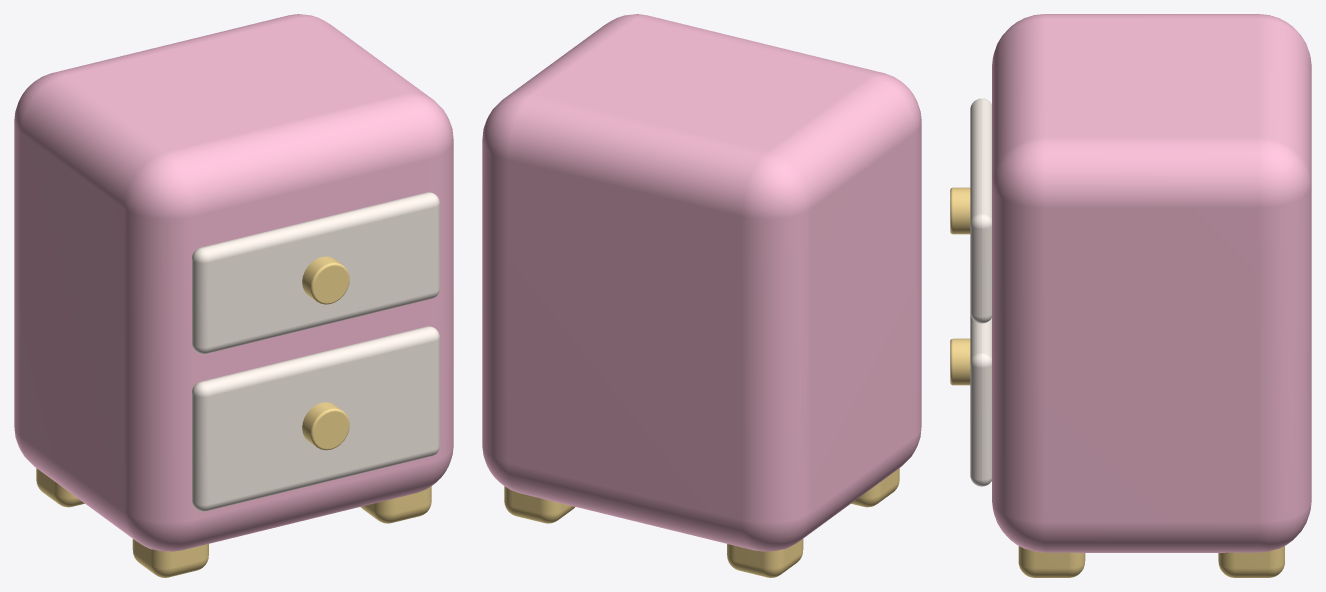
File: 粉色圆角床头柜.fbx
3 renders of one model, left to right at view 1: azimuth 30°, elevation 25°; view 2: azimuth 150°, elevation 25°; view 3: azimuth 270°, elevation 25°, orthographic. The views are drawn at different scales.
Visible parts, largest first — view 1: 粉色圆角床头柜_柜体, 粉色圆角床头柜_下抽屉, 粉色圆角床头柜_上抽屉, 粉色圆角床头柜_短脚, 粉色圆角床头柜_上圆拉手, 粉色圆角床头柜_下圆拉手, 粉色圆角床头柜_短脚.002, 粉色圆角床头柜_短脚.001; view 2: 粉色圆角床头柜_柜体, 粉色圆角床头柜_短脚.001, 粉色圆角床头柜_短脚.003, 粉色圆角床头柜_短脚; view 3: 粉色圆角床头柜_柜体, 粉色圆角床头柜_上抽屉, 粉色圆角床头柜_下抽屉, 粉色圆角床头柜_短脚.002, 粉色圆角床头柜_短脚.003, 粉色圆角床头柜_上圆拉手, 粉色圆角床头柜_下圆拉手.
Part boxes in pixels (x1,y1,x2,y2): 粉色圆角床头柜_柜体: (14,14,453,551); 粉色圆角床头柜_下抽屉: (192,326,439,511); 粉色圆角床头柜_上抽屉: (192,192,439,354); 粉色圆角床头柜_短脚: (132,539,208,577); 粉色圆角床头柜_上圆拉手: (302,256,349,304); 粉色圆角床头柜_下圆拉手: (302,402,349,450); 粉色圆角床头柜_短脚.002: (361,486,431,523); 粉色圆角床头柜_短脚.001: (36,468,84,507); 粉色圆角床头柜_柜体: (482,14,921,551); 粉色圆角床头柜_短脚.001: (727,539,803,577); 粉色圆角床头柜_短脚.003: (504,486,574,523); 粉色圆角床头柜_短脚: (851,468,899,507); 粉色圆角床头柜_柜体: (992,14,1311,552); 粉色圆角床头柜_上抽屉: (970,98,991,323); 粉色圆角床头柜_下抽屉: (970,314,991,486); 粉色圆角床头柜_短脚.002: (1018,546,1085,577); 粉色圆角床头柜_短脚.003: (1218,546,1284,577); 粉色圆角床头柜_上圆拉手: (950,187,970,234); 粉色圆角床头柜_下圆拉手: (950,338,970,385).
Size of the model in its own units: 58 by 72 by 54.25.
